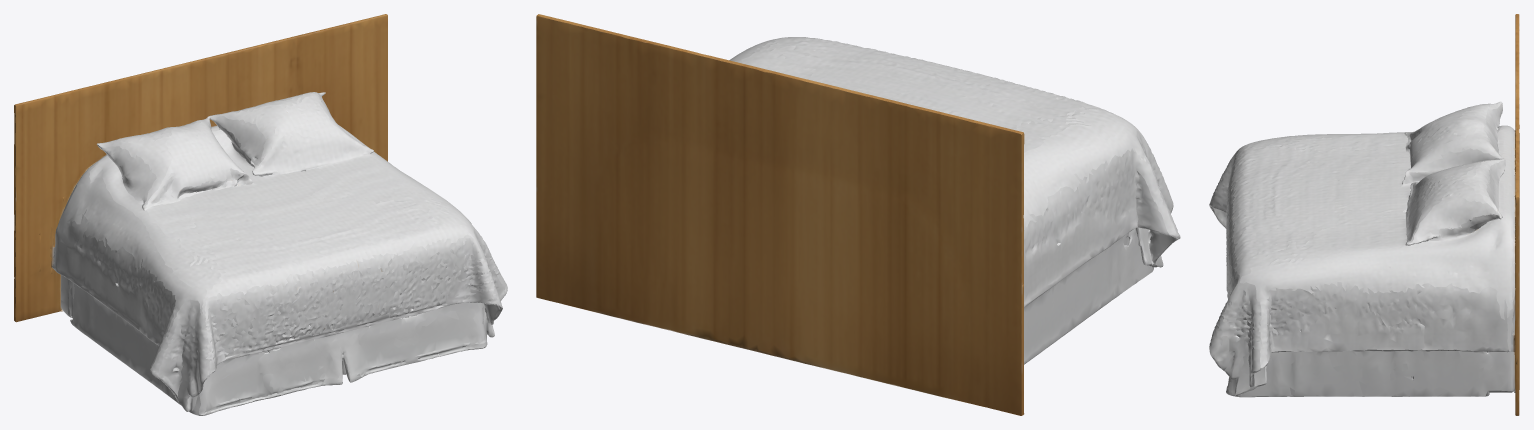
Rendered from item_3eea21cf.glb.
3 renders of one model, left to right at view 1: azimuth 30°, elevation 25°; view 2: azimuth 150°, elevation 25°; view 3: azimuth 270°, elevation 25°, orthographic. The views are drawn at different scales.
Visible parts, largest first — view 1: world; view 2: world; view 3: world.
Boxes of the visible parts, x1,y1,x2,y2 form: world: (14,14,507,415); world: (536,14,1180,415); world: (1209,14,1519,415).
Size of the model in its own units: 2.03 by 1.13 by 1.45.
1 material, 1 textured.
